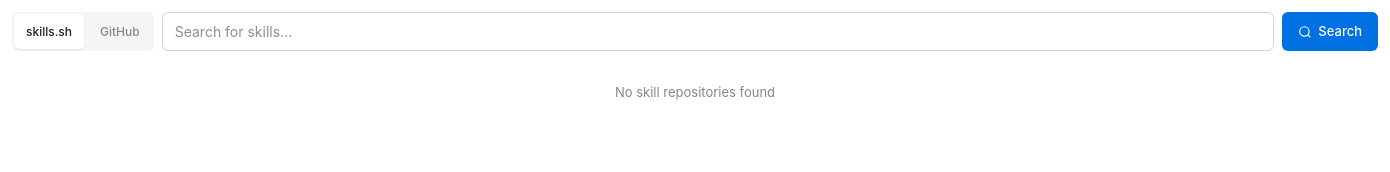
Test: MarketplaceSkills › search flow › shows loading state while searching
The width and height of the screenshot is (1390, 172).
Type "test" into the field with placeholder "Search for skills..." at (718, 32), box [162,12,1274,51]
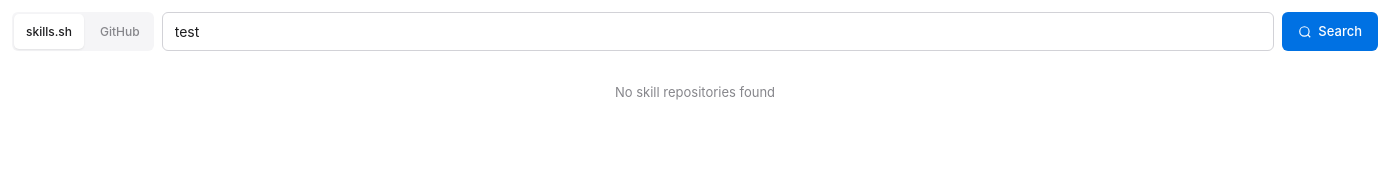
Click the button with class "search-btn" at (1330, 32), box [1282,12,1378,51]
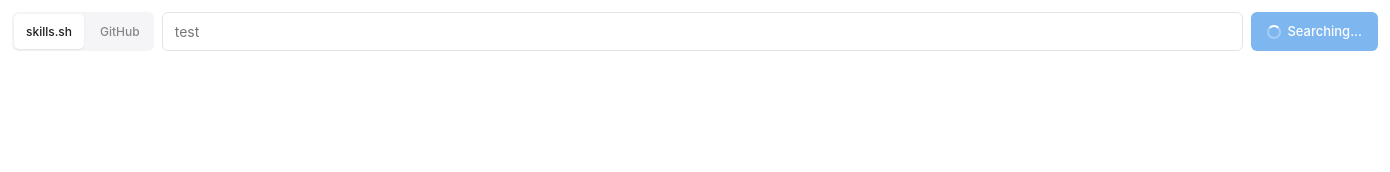
Now the element with class "spinner-sm" is shown, box [1267,24,1281,38]
Now the button with class "search-btn" shows "Searching", box [1251,12,1378,51]
Now the field is disabled, box [162,12,1243,51]
